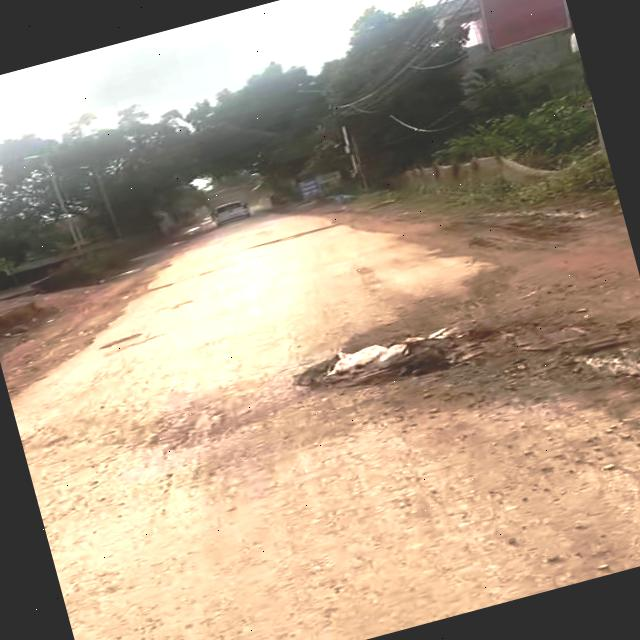pothole: (287, 296, 562, 411)
